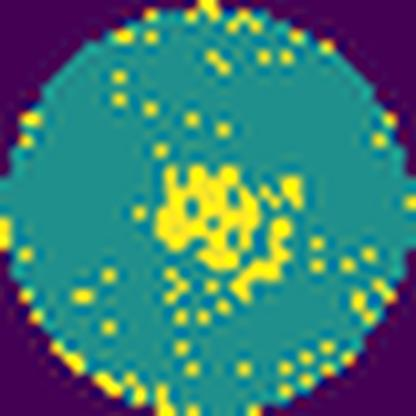Center: (155, 159, 263, 272)
